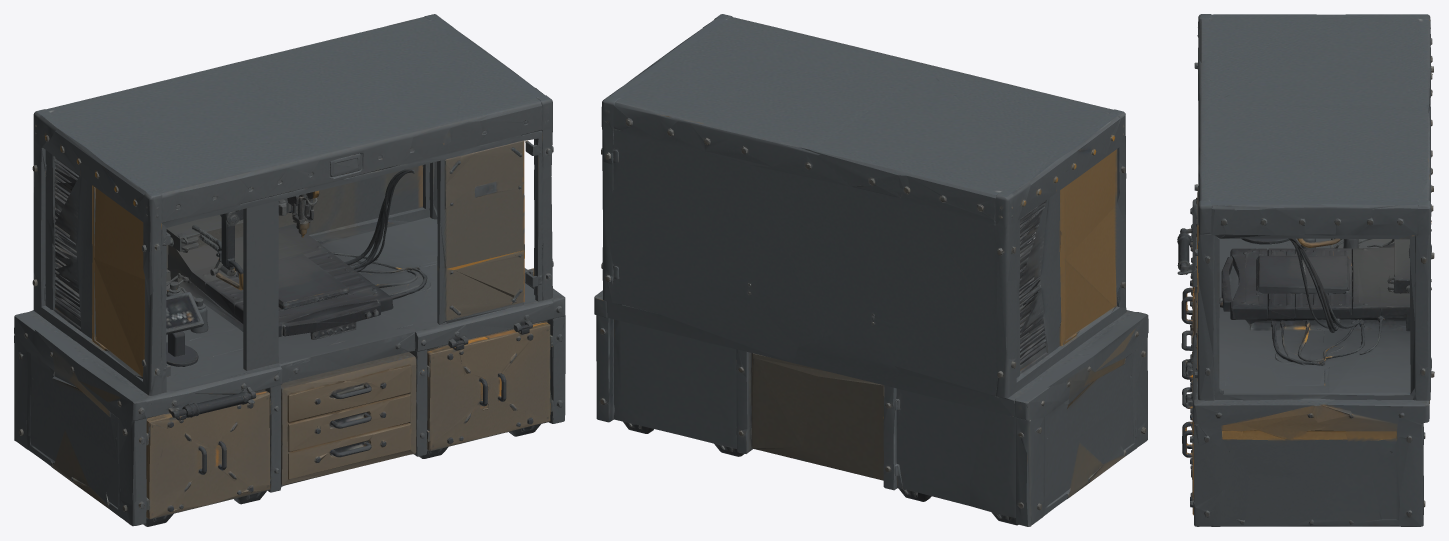
Rendered from TE_nanofab_bench.glb.
3 views of the same model, side by side, from view 1: azimuth 30°, elevation 25°; view 2: azimuth 150°, elevation 25°; view 3: azimuth 270°, elevation 25° (orthographic). The views are drawn at different scales.
Bounding box in the file's own units: 1.88 × 1.37 × 0.9723.
Materials: 1 (1 with a texture image).
